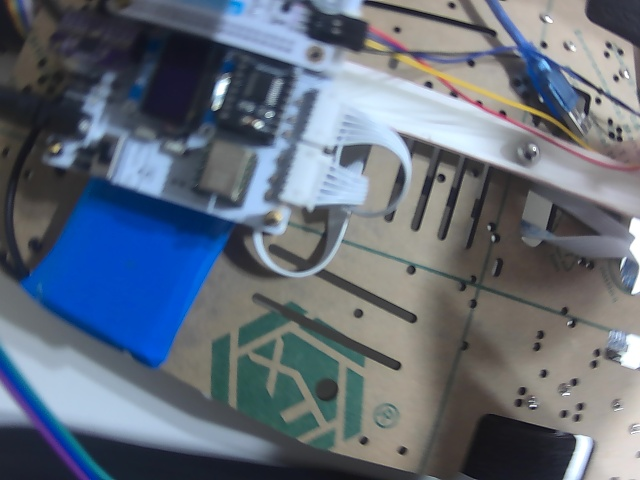steelball: (516, 140, 540, 164)
